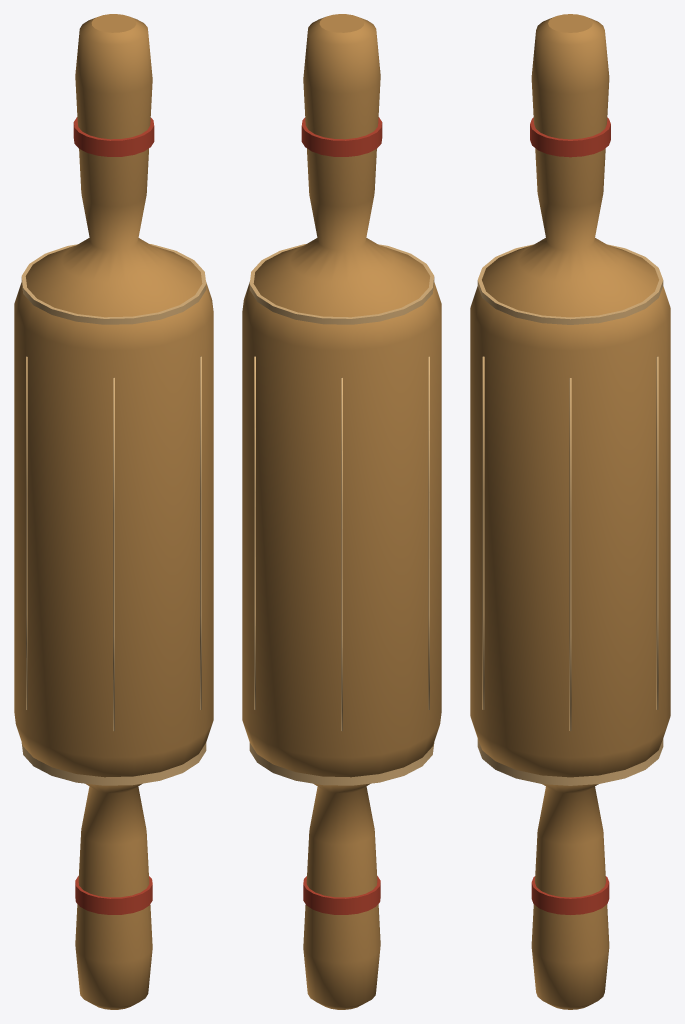
Rendered from rolling_pin_lod0.glb.
3 views of the same model, side by side, from view 1: azimuth 30°, elevation 25°; view 2: azimuth 150°, elevation 25°; view 3: azimuth 270°, elevation 25° (orthographic).
Visible parts, largest first — view 1: rolling_pin; view 2: rolling_pin; view 3: rolling_pin.
Boxes of the visible parts, bbox=[...] form: rolling_pin: bbox=[14, 14, 213, 1009]; rolling_pin: bbox=[242, 14, 441, 1009]; rolling_pin: bbox=[470, 14, 670, 1009].
Size of the model in its own units: 0.1358 by 0.72 by 0.134.
